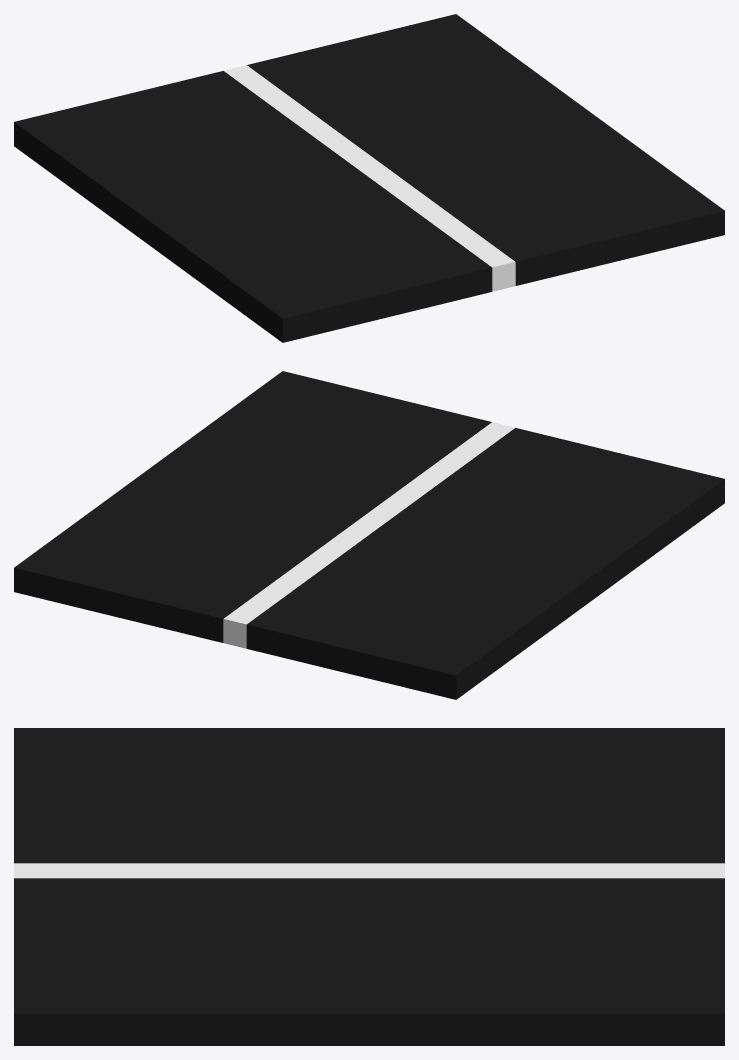
The model's file is ConstructionMaterials-69.obj.
3 views of the same model, one above another, from view 1: azimuth 30°, elevation 25°; view 2: azimuth 150°, elevation 25°; view 3: azimuth 270°, elevation 25° (orthographic). The views are drawn at different scales.
Size of the model in its own units: 1.9 by 0.1 by 2.
1 material, 1 textured.
